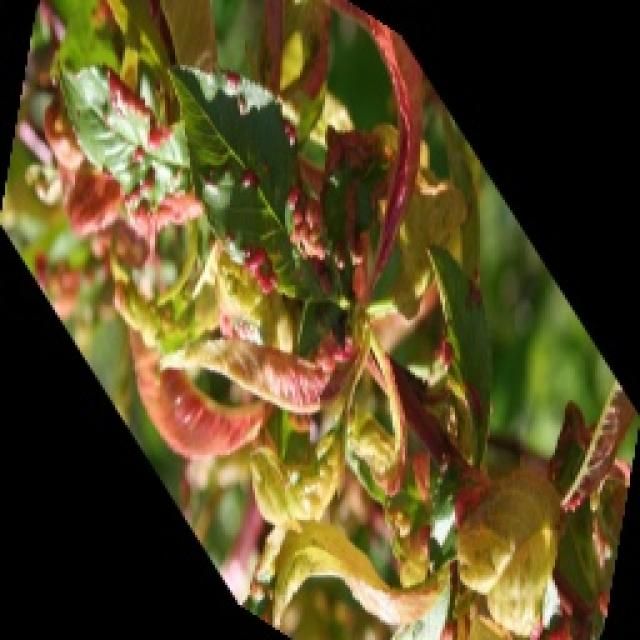Chlorosis: (5, 0, 637, 638)
